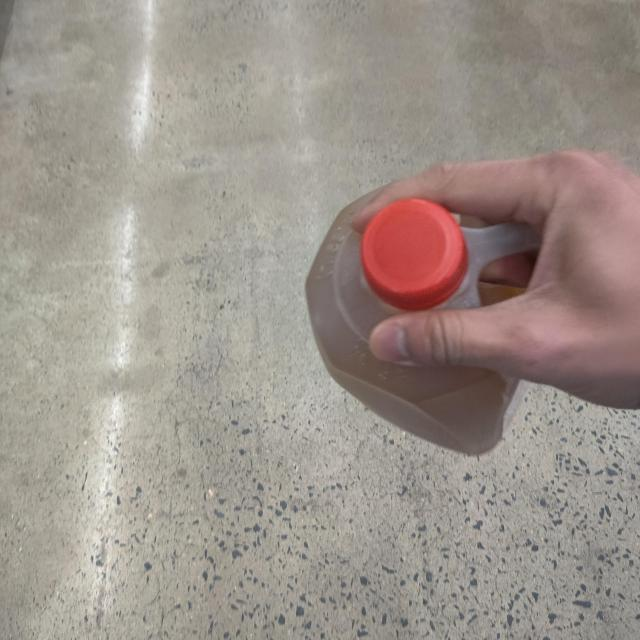Juice: (308, 197, 552, 455)
